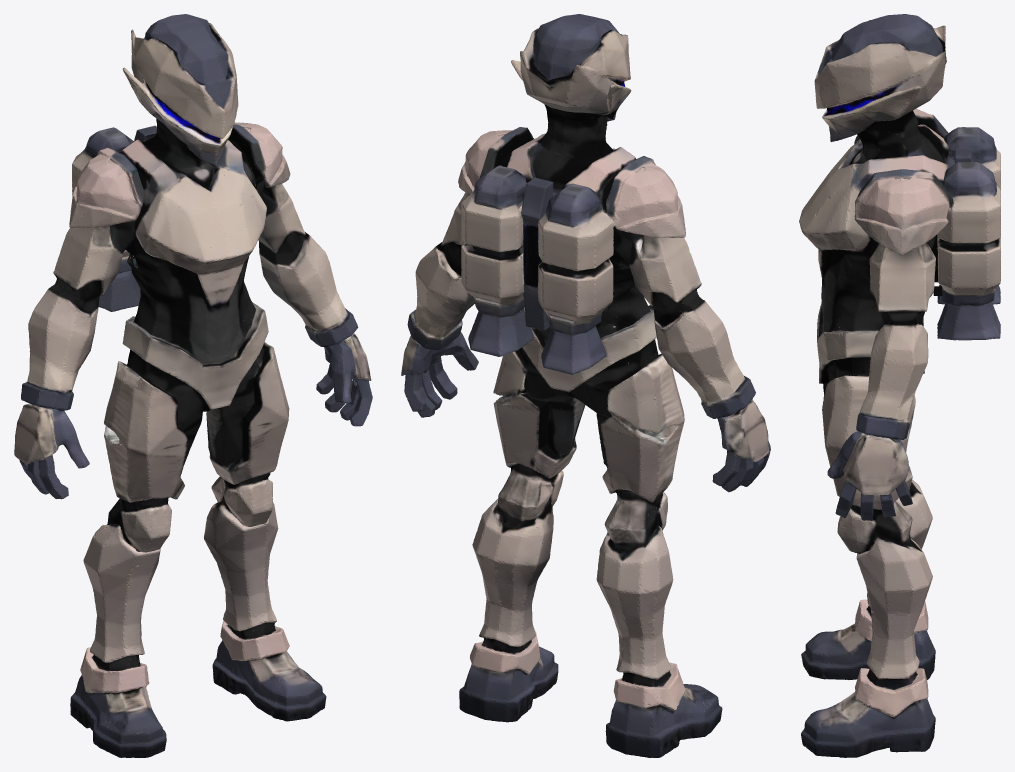
File: tactician-r2-s301.glb
3 renders of one model, left to right at view 1: azimuth 30°, elevation 25°; view 2: azimuth 150°, elevation 25°; view 3: azimuth 270°, elevation 25°, orthographic. The views are drawn at different scales.
Visible parts, largest first — view 1: geometry_0; view 2: geometry_0; view 3: geometry_0.
Part boxes in pixels (x1=…): geometry_0: x1=14, y1=14, x2=372, y2=757; geometry_0: x1=401, y1=14, x2=770, y2=757; geometry_0: x1=799, y1=14, x2=1000, y2=757.
Size of the model in its own units: 0.2646 by 0.4998 by 0.1334.
1 material, 1 textured.
